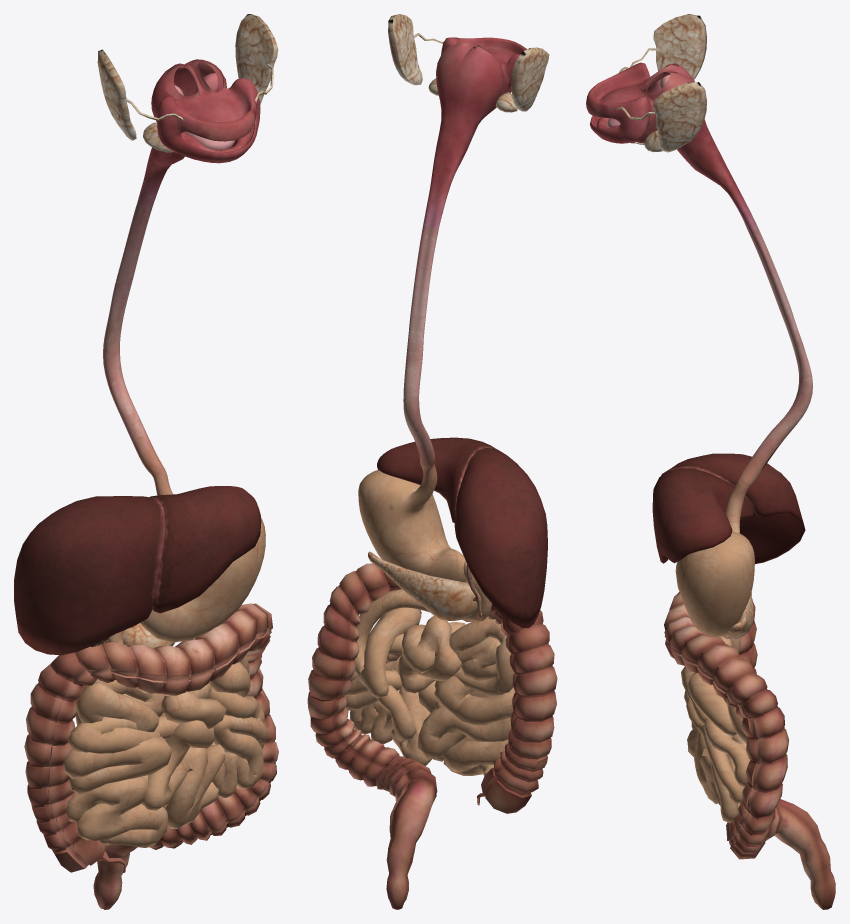
Rendered from Male_Digestive_System.fbx.
3 renders of one model, left to right at view 1: azimuth 30°, elevation 25°; view 2: azimuth 150°, elevation 25°; view 3: azimuth 270°, elevation 25°, orthographic. The views are drawn at different scales.
Parts seen in each view (by area): view 1: Right_Lobe, Jejunum, Ileum, Left_Lobe, Tranverse_Colon, Ascending_Colon, Mouse, Sigmoid_Colon, Lower_Thoracic_Esophagus, Right_Parotid_Gland, Body, Descending_Colon (+12 smaller); view 2: Jejunum, Right_Lobe, Ileum, Ascending_Colon, Descending_Colon, Sigmoid_Colon, Oropharynx, Body, Left_Lobe, Head_of_Pancreas, Right_Parotid_Gland, Left_Parotid_Gland (+14 smaller); view 3: Descending_Colon, Left_Lobe, Right_Lobe, Mouse, Jejunum, Tranverse_Colon, Right_Parotid_Gland, Body, Left_Parotid_Gland, Lower_Thoracic_Esophagus, Ileum, Sigmoid_Colon (+10 smaller).
Boxes of the visible parts, <box> form: Right_Lobe: <box>14,496,159,655</box>; Jejunum: <box>63,638,264,778</box>; Ileum: <box>65,718,268,847</box>; Left_Lobe: <box>149,486,261,613</box>; Tranverse_Colon: <box>76,603,268,695</box>; Ascending_Colon: <box>24,652,97,850</box>; Mouse: <box>157,77,260,163</box>; Sigmoid_Colon: <box>105,785,260,857</box>; Lower_Thoracic_Esophagus: <box>103,343,173,495</box>; Right_Parotid_Gland: <box>235,14,278,104</box>; Body: <box>197,519,265,620</box>; Descending_Colon: <box>246,603,278,801</box>; Jejunum: <box>346,589,515,725</box>; Right_Lobe: <box>454,449,547,628</box>; Ileum: <box>345,680,511,776</box>; Ascending_Colon: <box>493,610,557,794</box>; Descending_Colon: <box>307,570,373,759</box>; Sigmoid_Colon: <box>335,734,437,842</box>; Oropharynx: <box>436,43,507,127</box>; Body: <box>358,484,445,567</box>; Left_Lobe: <box>377,437,496,522</box>; Head_of_Pancreas: <box>410,571,477,620</box>; Right_Parotid_Gland: <box>388,14,457,85</box>; Left_Parotid_Gland: <box>511,47,549,111</box>; Descending_Colon: <box>711,657,788,853</box>; Left_Lobe: <box>652,468,755,563</box>; Right_Lobe: <box>672,453,805,563</box>; Mouse: <box>586,62,656,143</box>; Jejunum: <box>681,636,750,786</box>; Tranverse_Colon: <box>664,592,739,684</box>; Right_Parotid_Gland: <box>616,82,706,152</box>; Body: <box>675,547,754,636</box>; Left_Parotid_Gland: <box>619,14,706,79</box>; Lower_Thoracic_Esophagus: <box>725,374,812,526</box>; Ileum: <box>687,721,744,822</box>; Sigmoid_Colon: <box>726,799,821,859</box>.
Bounding box in the file's own units: 22.71 × 76.58 × 20.11.
1 material, 1 textured.
